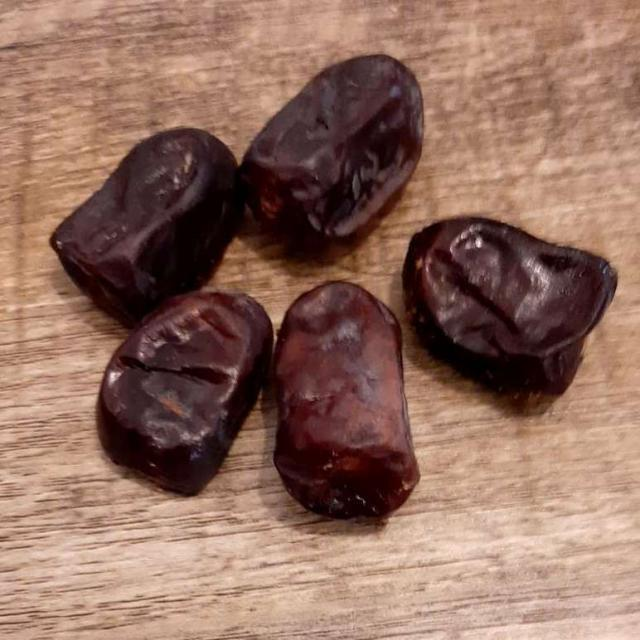dates: (36, 45, 616, 515)
